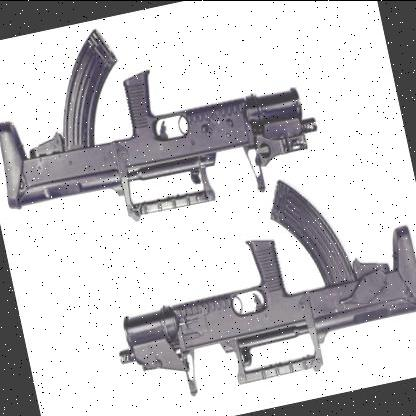rifle: (0, 0, 337, 253), (96, 157, 416, 416)
